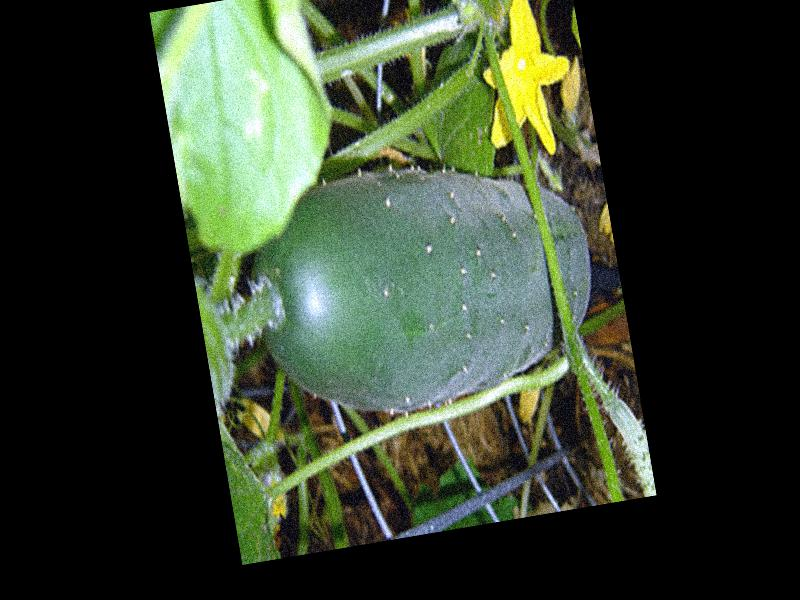Cucumber: (232, 139, 606, 432)
